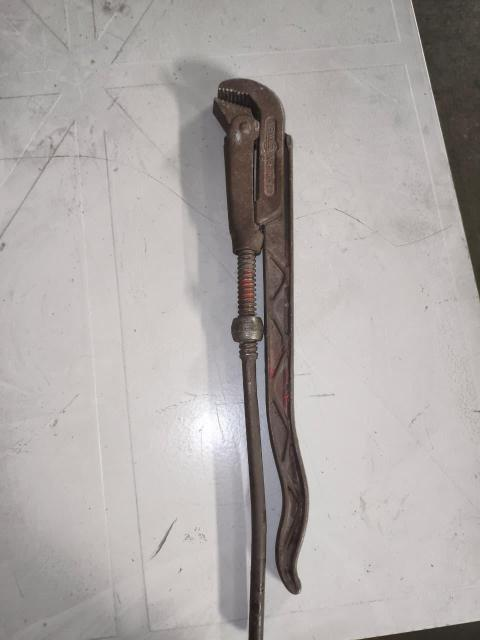Metal: (198, 75, 310, 640)
